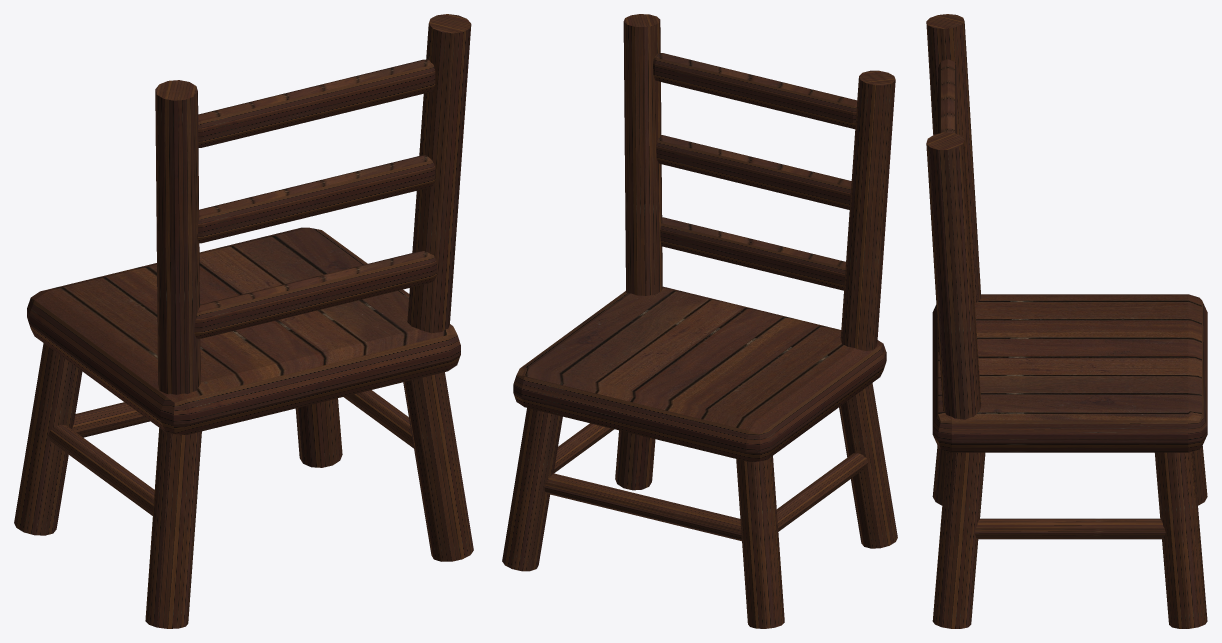
Rendered from cabin-chair.glb.
3 views of the same model, side by side, from view 1: azimuth 30°, elevation 25°; view 2: azimuth 150°, elevation 25°; view 3: azimuth 270°, elevation 25° (orthographic). The views are drawn at different scales.
Parts seen in each view (by area): view 1: ChairSeat, ChairBackPost_-1, ChairBackPost_1, ChairLeg_-1_1, ChairBackSlat_0, ChairBackSlat_2, ChairBackSlat_1, ChairLeg_1_1, ChairLeg_-1_-1, ChairSideStretcherL, ChairLeg_1_-1, ChairFrontStretcher (+1 smaller); view 2: ChairSeat, ChairBackPost_-1, ChairBackPost_1, ChairLeg_-1_-1, ChairBackSlat_2, ChairLeg_1_-1, ChairBackSlat_1, ChairBackSlat_0, ChairLeg_-1_1, ChairFrontStretcher, ChairSideStretcherL, ChairLeg_1_1 (+1 smaller); view 3: ChairSeat, ChairBackPost_1, ChairLeg_1_-1, ChairLeg_1_1, ChairBackPost_-1, ChairSideStretcherR, ChairBackSlat_2, ChairLeg_-1_-1, ChairLeg_-1_1.
Part boxes in pixels (x1=…): ChairSeat: x1=27, y1=227, x2=460, y2=435; ChairBackPost_-1: x1=155, y1=80, x2=200, y2=394; ChairBackPost_1: x1=407, y1=14, x2=471, y2=333; ChairLeg_-1_1: x1=145, y1=428, x2=201, y2=628; ChairBackSlat_0: x1=194, y1=251, x2=437, y2=338; ChairBackSlat_2: x1=198, y1=59, x2=435, y2=147; ChairBackSlat_1: x1=197, y1=155, x2=435, y2=243; ChairLeg_1_1: x1=403, y1=372, x2=473, y2=561; ChairLeg_-1_-1: x1=14, y1=343, x2=82, y2=535; ChairSideStretcherL: x1=48, y1=424, x2=154, y2=515; ChairLeg_1_-1: x1=295, y1=398, x2=342, y2=467; ChairFrontStretcher: x1=72, y1=402, x2=149, y2=437; ChairSeat: x1=513, y1=286, x2=886, y2=462; ChairBackPost_-1: x1=840, y1=70, x2=895, y2=350; ChairBackPost_1: x1=623, y1=14, x2=662, y2=295; ChairLeg_-1_-1: x1=736, y1=456, x2=784, y2=628; ChairBackSlat_2: x1=653, y1=53, x2=857, y2=129; ChairLeg_1_-1: x1=502, y1=408, x2=562, y2=571; ChairBackSlat_1: x1=656, y1=135, x2=851, y2=209; ChairBackSlat_0: x1=660, y1=217, x2=845, y2=290; ChairLeg_-1_1: x1=839, y1=383, x2=897, y2=548; ChairFrontStretcher: x1=544, y1=473, x2=741, y2=541; ChairSideStretcherL: x1=777, y1=453, x2=868, y2=531; ChairLeg_1_1: x1=615, y1=430, x2=655, y2=490; ChairSeat: x1=932, y1=294, x2=1207, y2=452; ChairBackPost_1: x1=926, y1=132, x2=981, y2=419; ChairLeg_1_-1: x1=1155, y1=451, x2=1207, y2=628; ChairLeg_1_1: x1=932, y1=451, x2=985, y2=628; ChairBackPost_-1: x1=926, y1=14, x2=981, y2=302; ChairSideStretcherR: x1=974, y1=518, x2=1165, y2=539; ChairBackSlat_2: x1=938, y1=59, x2=957, y2=133; ChairLeg_-1_-1: x1=1193, y1=446, x2=1207, y2=505; ChairLeg_-1_1: x1=932, y1=445, x2=946, y2=505.
Size of the model in its own units: 0.7792 by 1.24 by 0.6546.
Materials: 1 (1 with a texture image).
